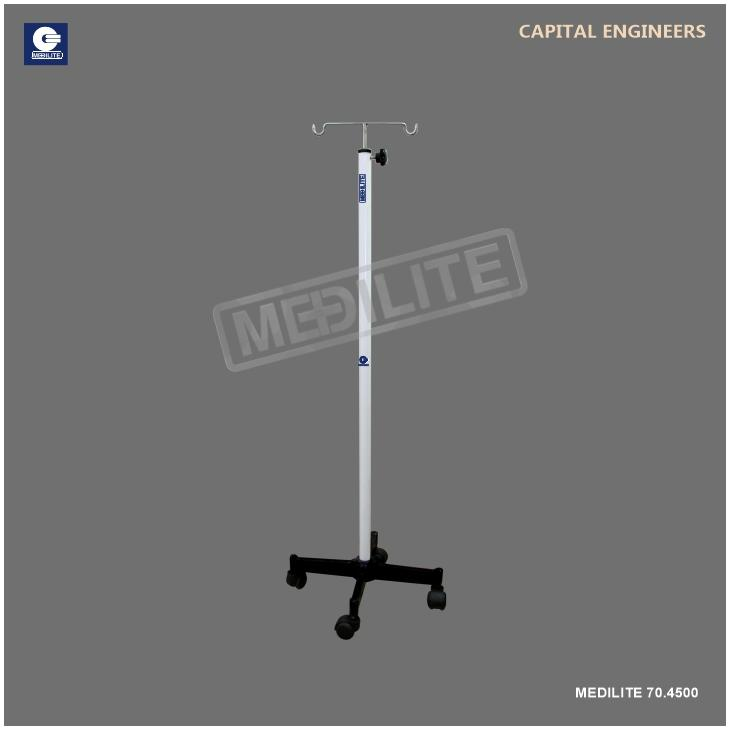Saline Stand: (285, 118, 447, 640)
